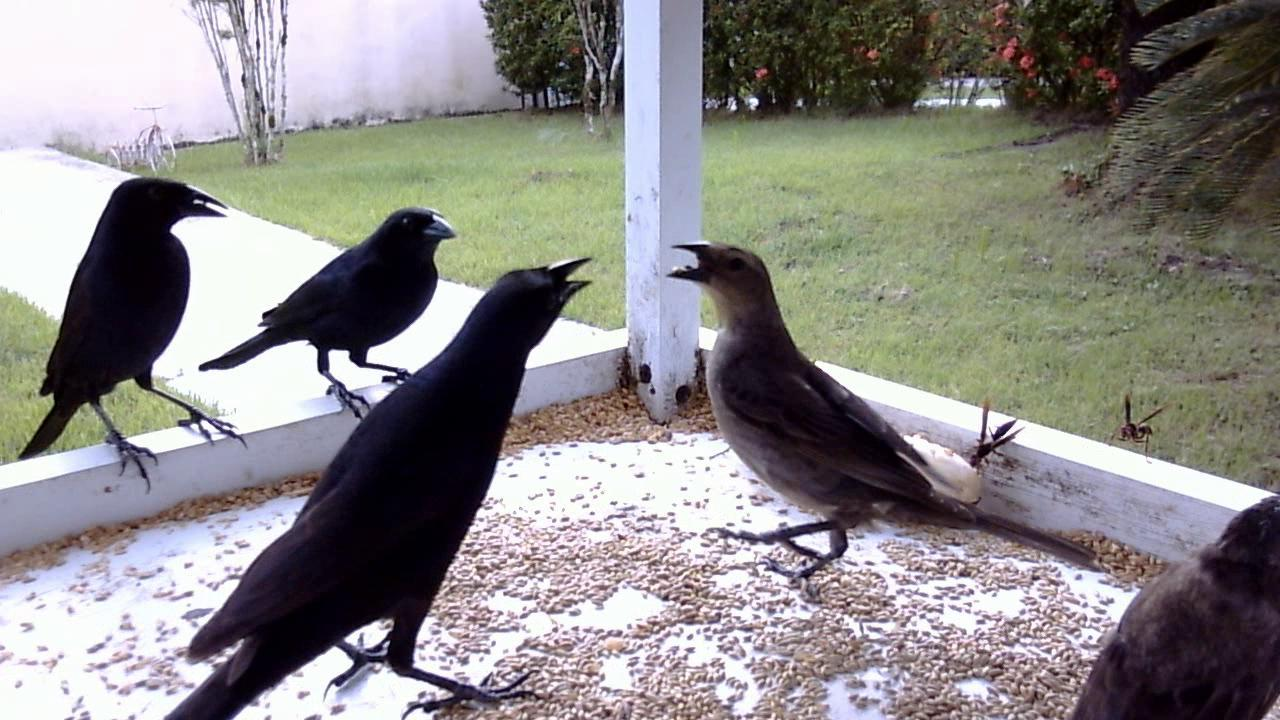chupim: (143, 261, 610, 713), (662, 248, 1105, 625), (14, 167, 250, 501), (186, 189, 483, 441), (1049, 474, 1276, 720)
